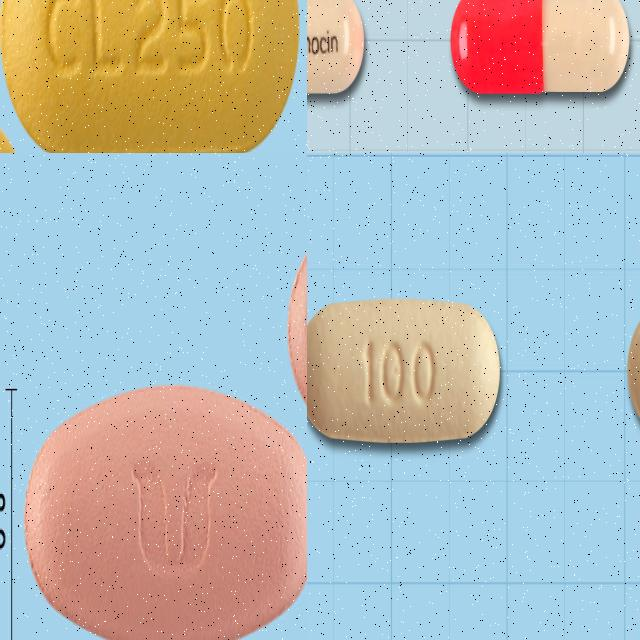Levo F: (21, 380, 307, 640)
Minocin Cap: (448, 0, 632, 95), (307, 0, 365, 98)
New Clato Tab: (0, 0, 300, 153)
Noxafil Gastro-Resistant Tab: (307, 296, 501, 446)
